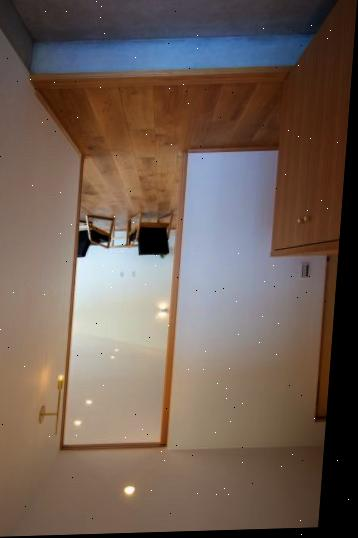floor: (10, 0, 338, 42)
safe: (31, 72, 290, 230), (89, 218, 110, 234), (130, 216, 139, 230), (159, 216, 170, 222)
